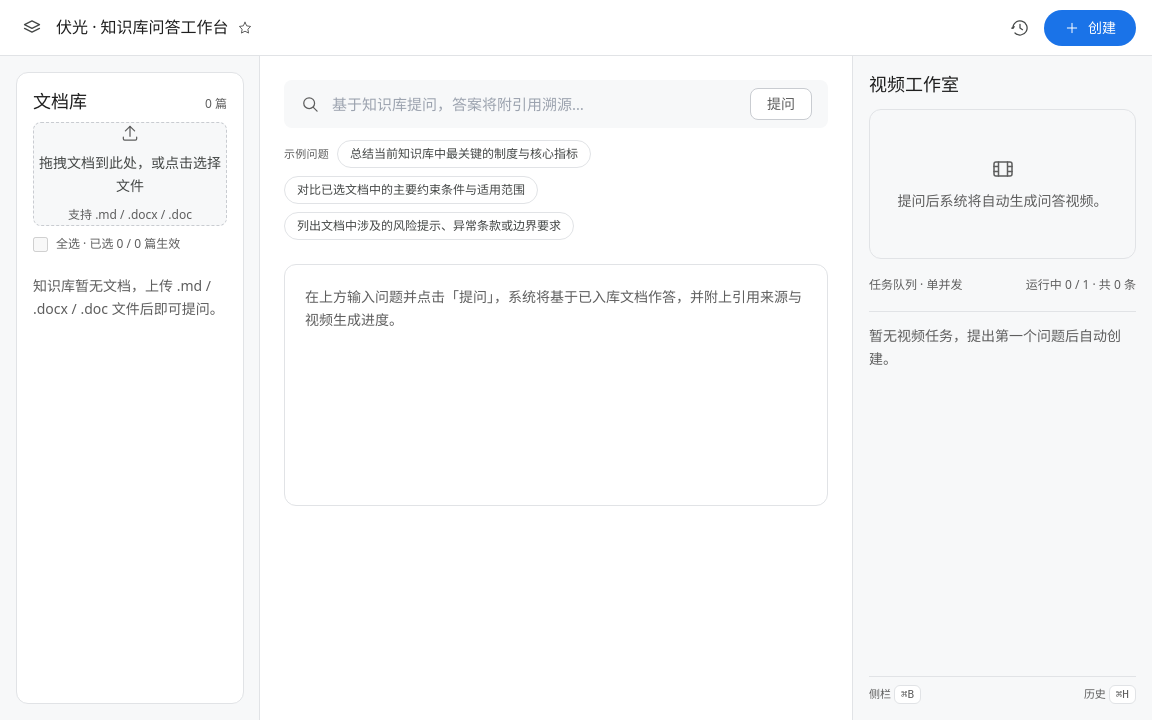
Test: App 三栏工作台 › 顶栏「+ 创建」发起示例问题问答
The width and height of the screenshot is (1152, 720).
Step 1. Click the button "创建" → click(1090, 28), box [1044,10,1136,46]
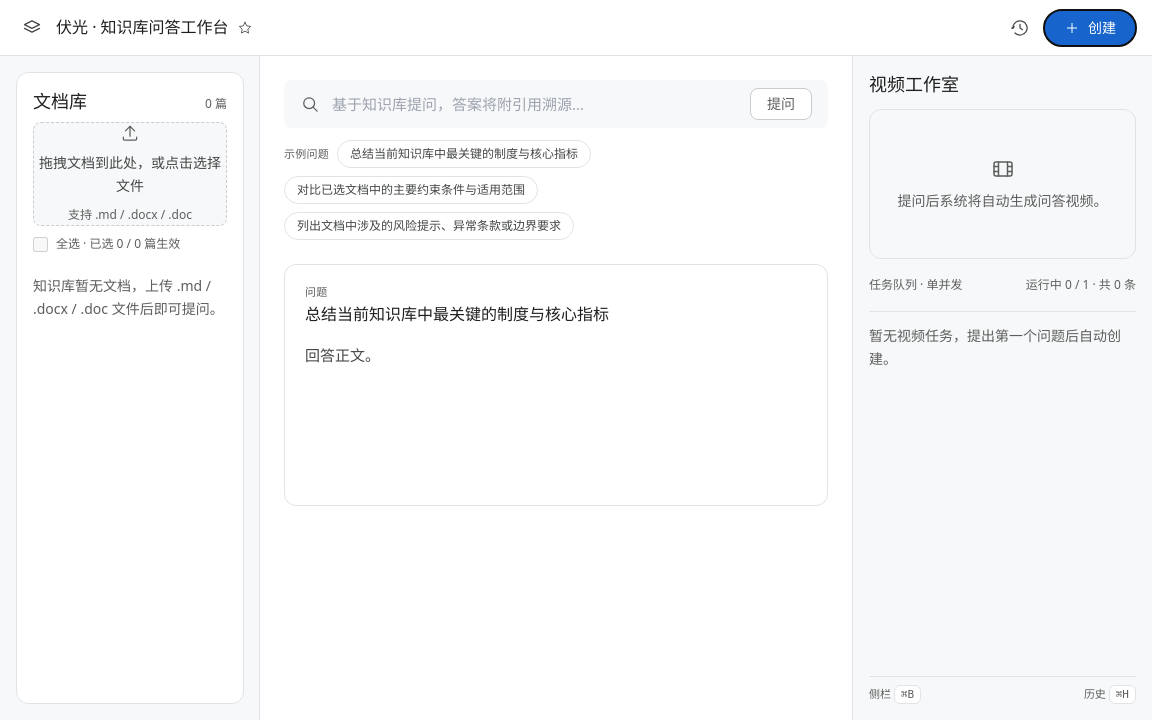
Result: the text "回答正文。" is shown at [305,346,380,366]
